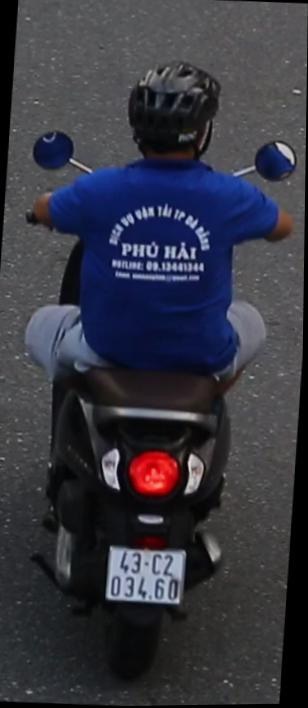LP: (104, 536, 194, 613)
helmet: (119, 60, 226, 188)
